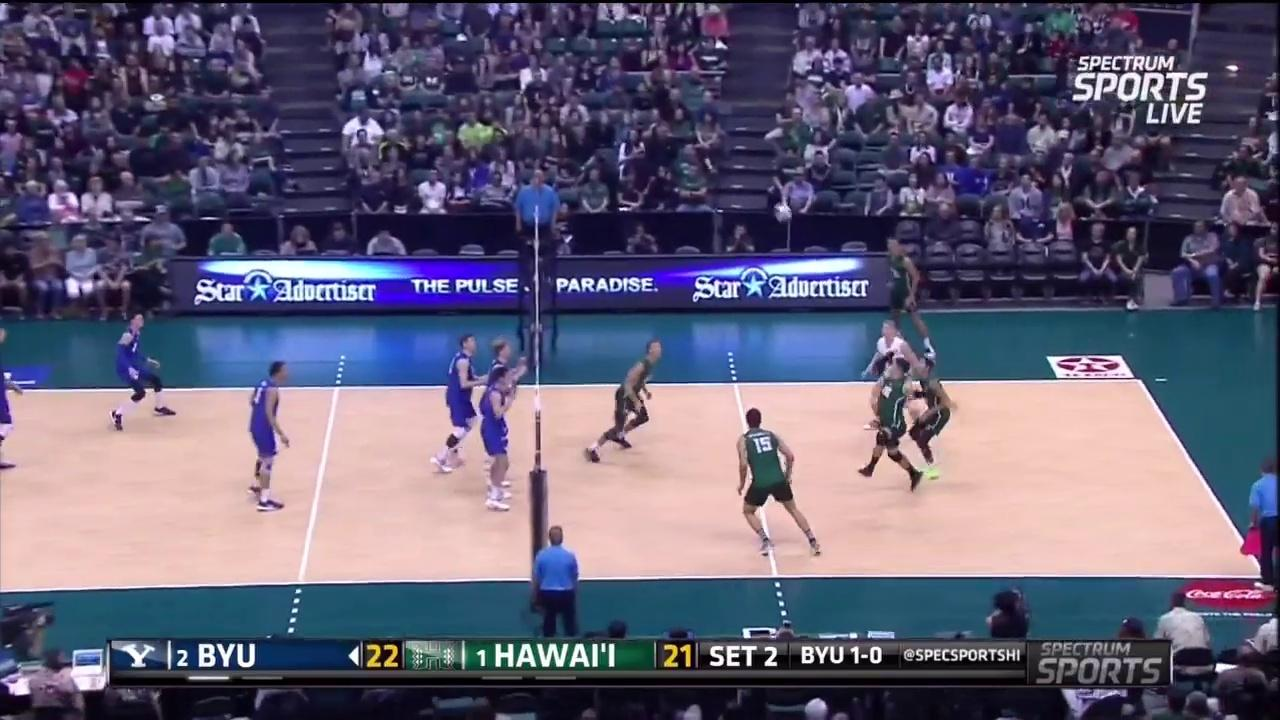player: (732, 405, 827, 553), (583, 339, 664, 463), (861, 356, 922, 498), (429, 336, 483, 477), (879, 234, 938, 361), (110, 312, 172, 431), (861, 316, 926, 429), (246, 365, 294, 509), (480, 338, 526, 486), (907, 352, 956, 481), (482, 369, 523, 516), (0, 329, 23, 471)
refree: (511, 168, 564, 276), (530, 528, 578, 638), (1242, 453, 1280, 590)
